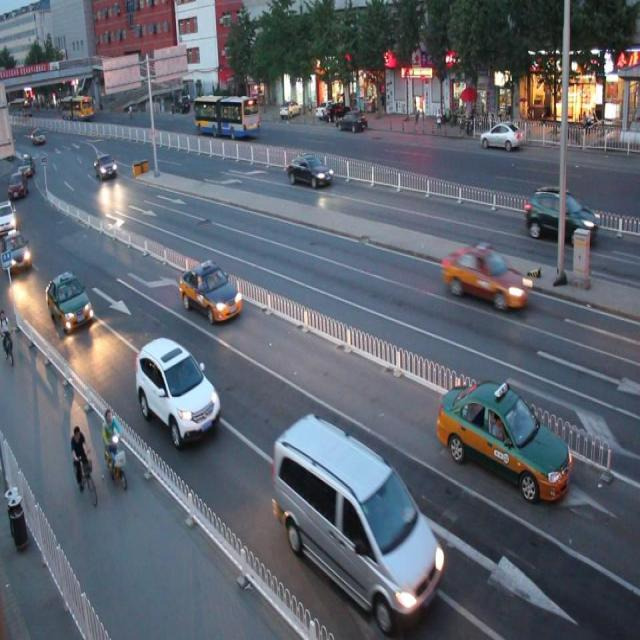car: (272, 410, 443, 620), (436, 377, 572, 501), (134, 336, 221, 446), (442, 246, 529, 307), (524, 184, 599, 245), (178, 261, 242, 324), (45, 270, 94, 334), (286, 150, 331, 187)
van: (193, 92, 261, 138)
